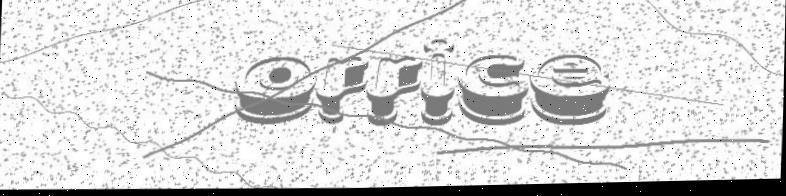c: (456, 55, 529, 131)
e: (529, 55, 612, 129)
i: (419, 39, 457, 129)
o: (233, 55, 317, 128)
r: (365, 57, 421, 129), (316, 55, 368, 127)
